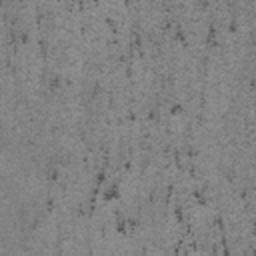Oxide scale of temperature system: (77, 82, 256, 256), (160, 6, 238, 47), (105, 0, 145, 77), (4, 13, 47, 56), (49, 74, 105, 101), (44, 168, 59, 212), (78, 0, 84, 12), (250, 78, 256, 87)
